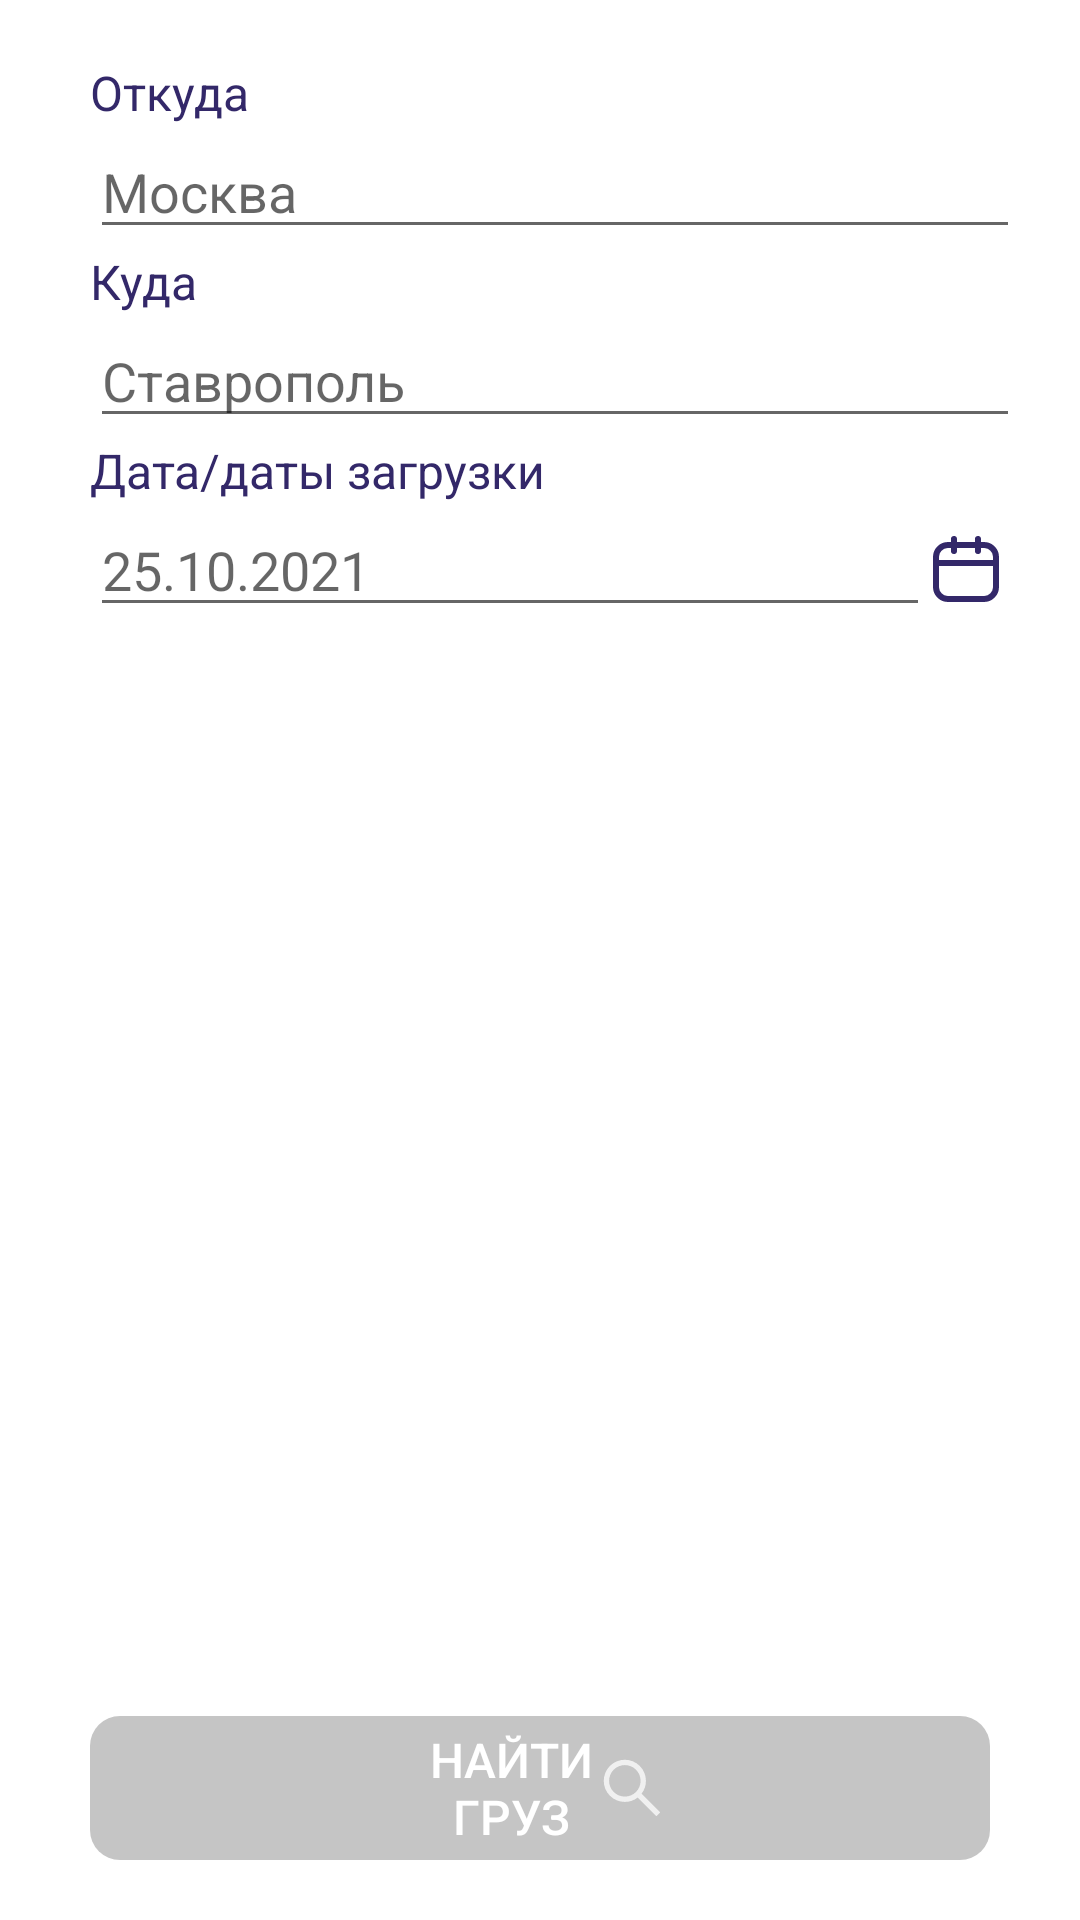

Icons on this 1080 × 1920 Android screen, each with the point to tap as point (x, y):
calendar: point (966, 569)
